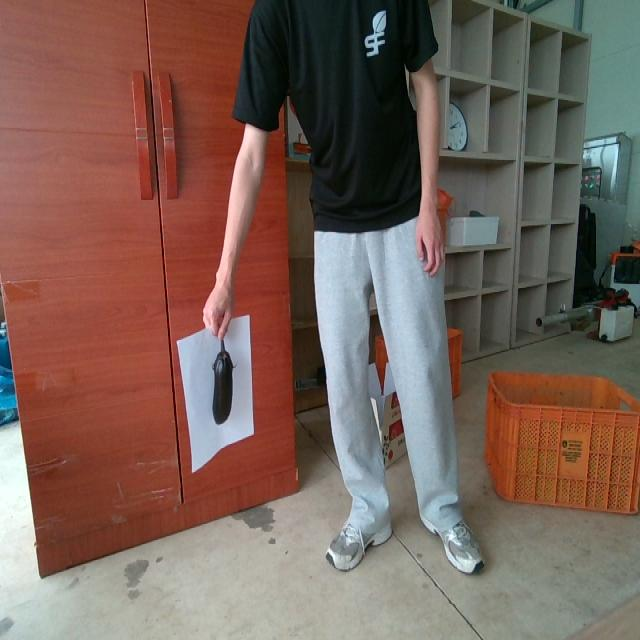Egg plant: (212, 340, 232, 424)
